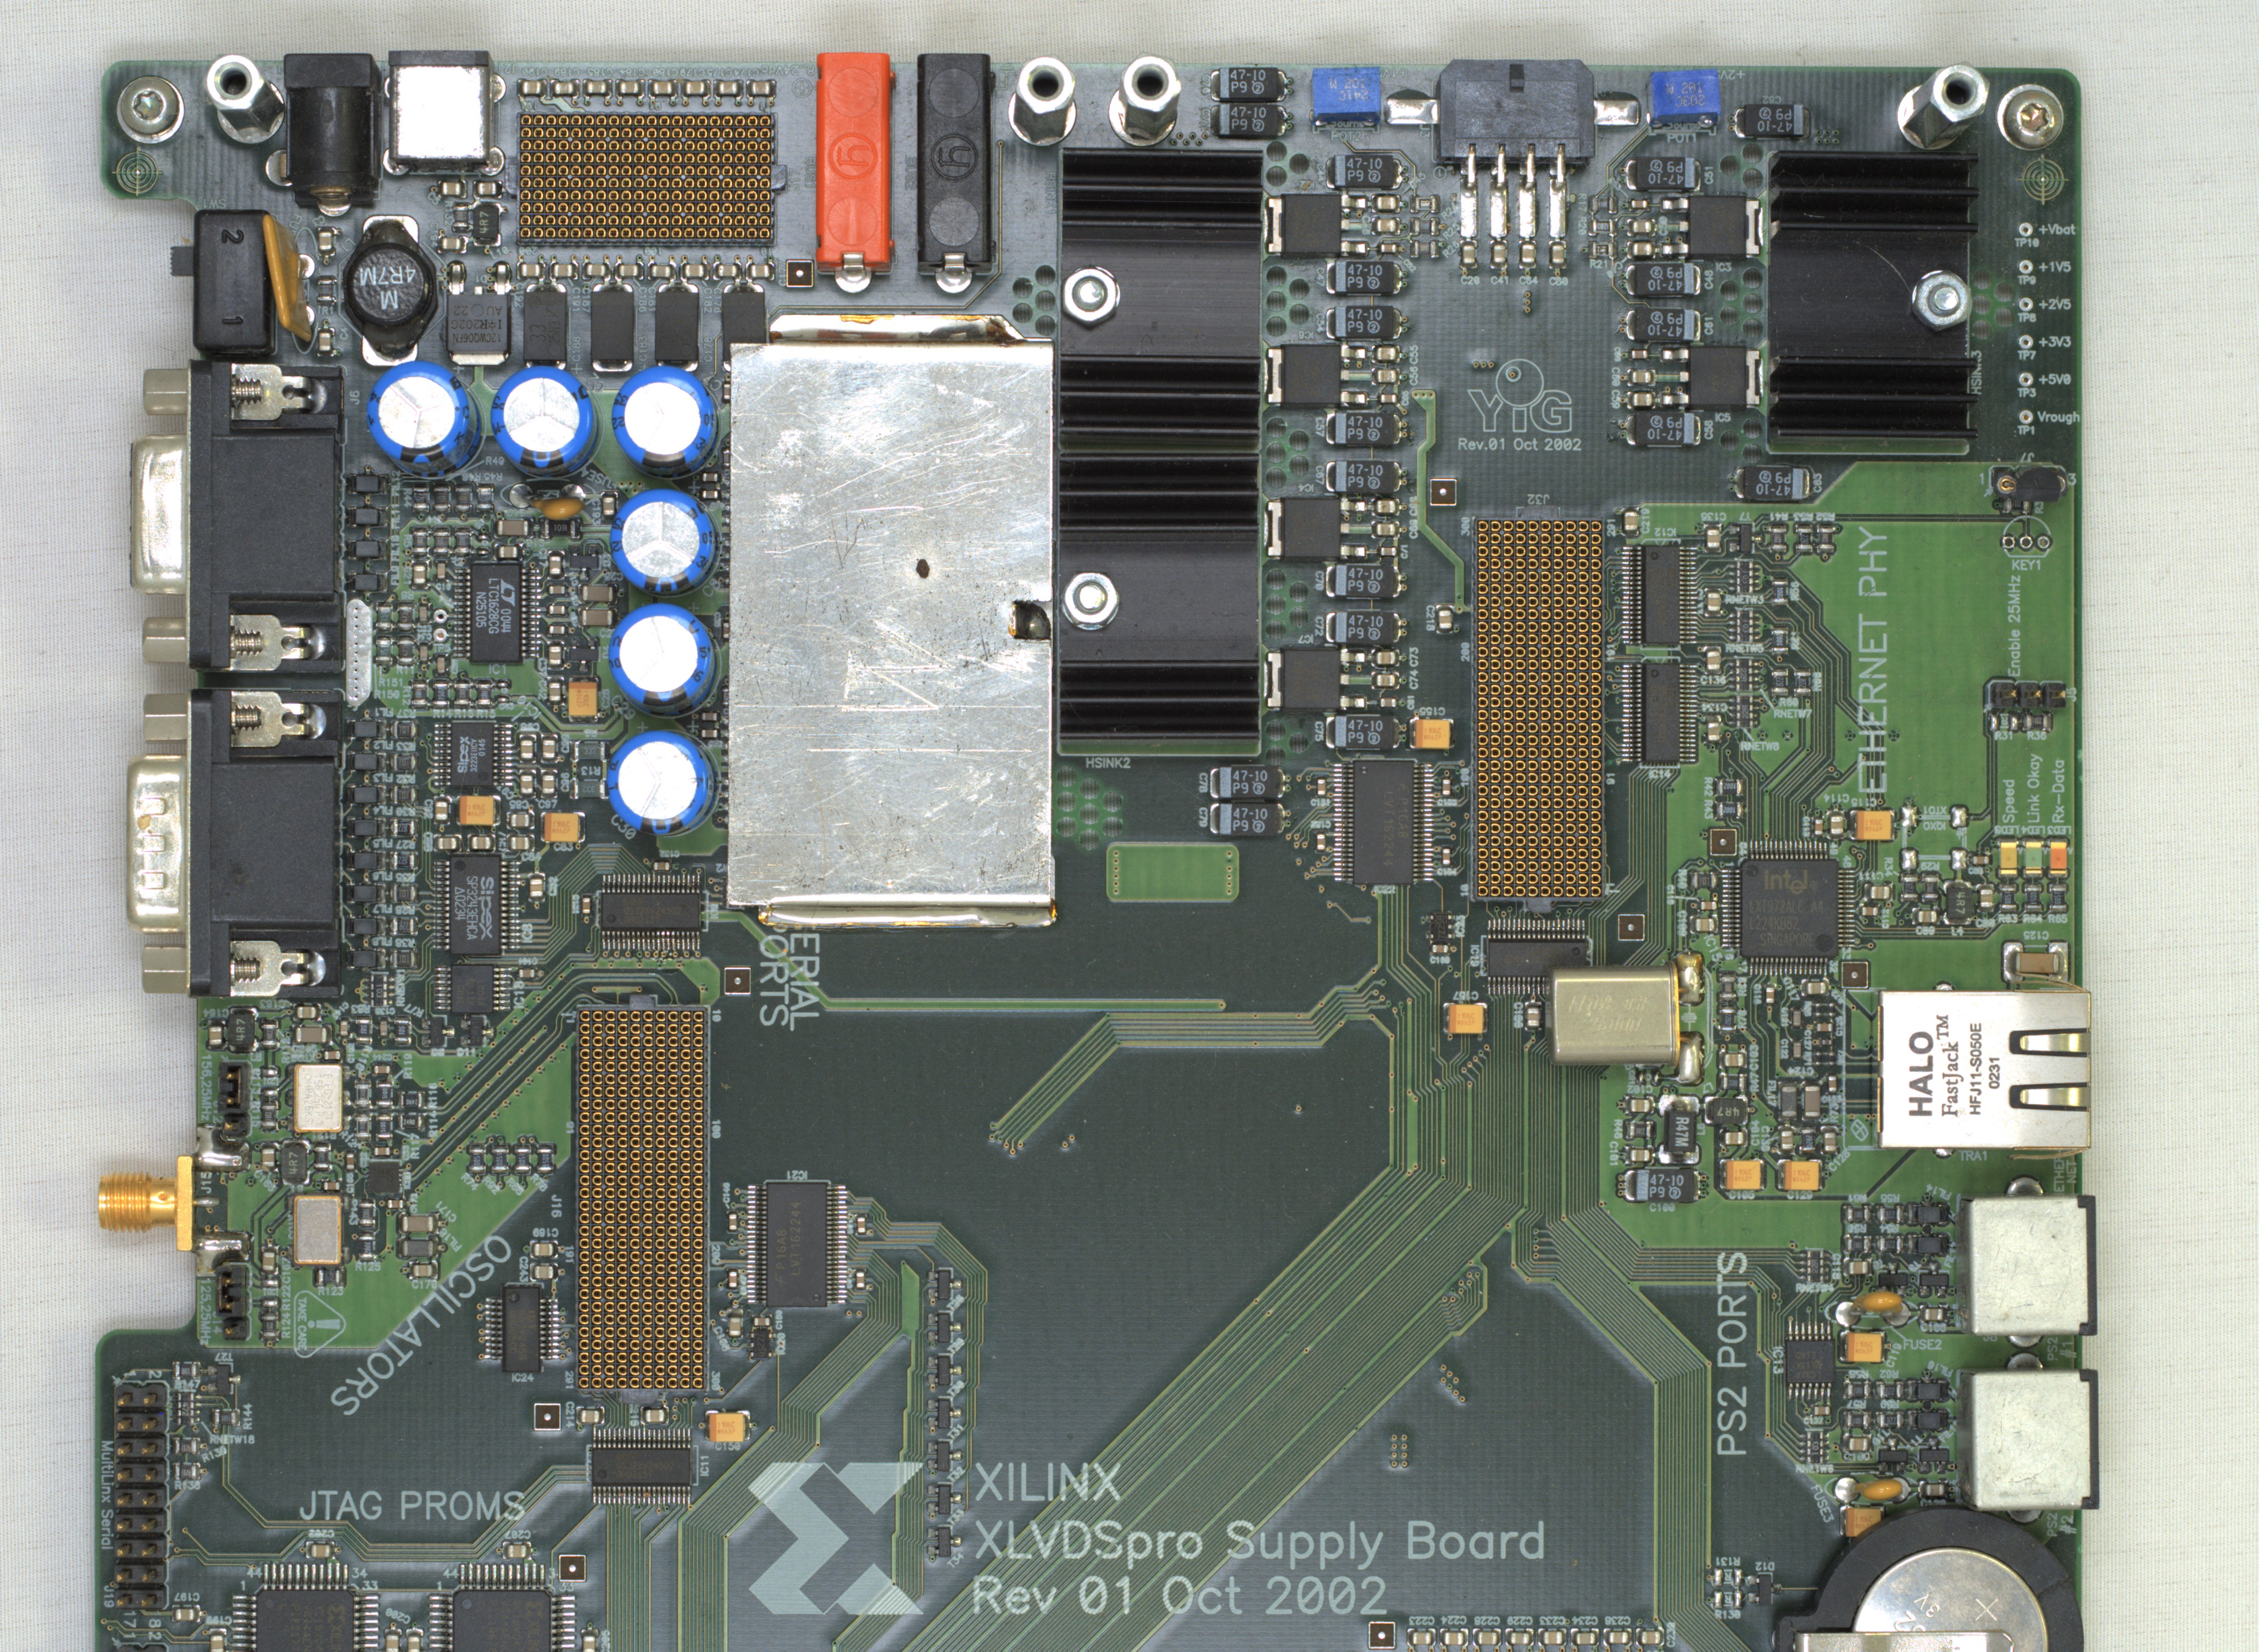capacitor C100: (1843, 1433, 1873, 1452)
capacitor C101: (1624, 1145, 1654, 1164)
capacitor C102: (1624, 1094, 1654, 1115), (321, 1049, 344, 1063)
capacitor C103: (1719, 1049, 1747, 1068)
capacitor C104: (1719, 1128, 1749, 1149), (516, 966, 538, 980)
capacitor C105: (321, 1178, 344, 1193)
capacitor C11: (547, 584, 568, 596)
capacitor C110: (1698, 900, 1719, 912)
capacitor C111: (1863, 882, 1894, 903)
capacitor C112: (1859, 903, 1880, 919)
capacitor C114: (1826, 810, 1845, 840)
capacitor C115: (1812, 815, 1826, 838)
capacitor C116: (1764, 984, 1777, 1007)
capacitor C117: (1799, 979, 1831, 996)
capacitor C118: (1843, 1257, 1871, 1277)
capacitor C12: (493, 517, 535, 538)
capacitor C121: (1791, 1007, 1803, 1029)
capacitor C122: (1791, 1038, 1803, 1061)
capacitor C123: (1824, 1073, 1838, 1094)
capacitor C124: (1801, 1080, 1822, 1121)
capacitor C125: (1999, 938, 2071, 986)
capacitor C126: (1819, 1126, 1838, 1154), (1814, 1021, 1835, 1033)
capacitor C127: (1819, 1038, 1833, 1045)
capacitor C13: (495, 542, 524, 561)
capacitor C130: (1777, 1126, 1796, 1156), (379, 1017, 389, 1040)
capacitor C132: (651, 859, 673, 873)
capacitor C133: (1705, 587, 1722, 617)
capacitor C134: (1703, 716, 1722, 744)
capacitor C135: (1703, 523, 1722, 554)
capacitor C136: (1703, 645, 1722, 675)
capacitor C137: (1810, 1405, 1831, 1417)
capacitor C145: (338, 1015, 353, 1040)
capacitor C146: (726, 1210, 738, 1235)
capacitor C151: (1315, 777, 1326, 796)
capacitor C152: (1314, 831, 1328, 854)
capacitor C153: (1440, 777, 1452, 796)
capacitor C154: (1440, 845, 1452, 866)
capacitor C159: (751, 1314, 772, 1329)
capacitor C16: (435, 559, 449, 582)
capacitor C160: (1428, 942, 1450, 954)
capacitor C163: (291, 1003, 323, 1021)
capacitor C164: (207, 1021, 226, 1050)
capacitor C166: (261, 1142, 279, 1171)
capacitor C167: (260, 1245, 279, 1277)
capacitor C168: (726, 1308, 744, 1338)
capacitor C169: (528, 1240, 559, 1259)
capacitor C17: (547, 549, 565, 579)
capacitor C170: (409, 1261, 438, 1280)
capacitor C171: (396, 1212, 440, 1235)
capacitor C172: (384, 1198, 405, 1210)
capacitor C174: (745, 79, 775, 98)
capacitor C175: (714, 79, 744, 98)
capacitor C176: (712, 261, 742, 281)
capacitor C1767: (745, 261, 775, 282)
capacitor C179: (681, 79, 710, 98)
capacitor C180: (647, 79, 677, 98)
capacitor C181: (647, 261, 677, 282)
capacitor C182: (681, 261, 710, 281)
capacitor C184: (616, 79, 644, 96)
capacitor C185: (582, 79, 612, 98)
capacitor C186: (616, 261, 644, 281)
capacitor C187: (582, 261, 612, 281)
capacitor C189: (549, 79, 579, 98)
capacitor C190: (517, 79, 547, 98)
capacitor C191: (549, 261, 579, 281)
capacitor C192: (516, 261, 545, 279)
capacitor C193: (602, 491, 617, 523)
capacitor C194: (438, 235, 467, 253)
capacitor C197: (170, 1603, 202, 1622)
capacitor C2: (577, 607, 617, 628)
capacitor C20: (1459, 240, 1477, 268)
capacitor C202: (305, 1540, 335, 1559)
capacitor C207: (502, 1542, 531, 1559)
capacitor C21: (410, 559, 430, 591)
capacitor C214: (575, 1406, 605, 1424)
capacitor C215: (640, 1406, 670, 1424)
capacitor C218: (1435, 603, 1454, 635)
capacitor C219: (1621, 507, 1640, 538)
capacitor C22: (344, 1149, 358, 1171)
capacitor C223: (1407, 1627, 1436, 1647)
capacitor C224: (1440, 1629, 1468, 1647)
capacitor C228: (1472, 1627, 1503, 1647)
capacitor C229: (1505, 1627, 1535, 1647)
capacitor C23: (417, 605, 431, 624)
capacitor C232: (1635, 1627, 1664, 1647)
capacitor C233: (1536, 1627, 1568, 1647)
capacitor C234: (1570, 1627, 1600, 1647)
capacitor C238: (1603, 1627, 1631, 1647)
capacitor C243: (530, 1263, 559, 1282)
capacitor C244: (372, 1065, 393, 1075)
capacitor C245: (291, 1024, 333, 1047)
capacitor C28: (577, 584, 617, 603)
capacitor C3: (317, 226, 337, 256)
capacitor C32: (1377, 244, 1400, 254)
capacitor C33: (372, 1145, 393, 1157)
capacitor C34: (417, 644, 430, 665)
capacitor C37: (547, 640, 567, 670)
capacitor C4: (316, 326, 335, 354)
capacitor C40: (1628, 240, 1656, 258)
capacitor C41: (1491, 240, 1508, 270)
capacitor C42: (547, 677, 565, 707)
capacitor C45: (1372, 195, 1400, 214)
capacitor C48: (1372, 217, 1401, 237)
capacitor C5: (437, 179, 468, 198)
capacitor C50: (1626, 219, 1654, 237)
capacitor C55: (1372, 345, 1401, 363)
capacitor C56: (1372, 368, 1400, 386)
capacitor C59: (1626, 391, 1656, 409), (1912, 907, 1940, 924)
capacitor C60: (1626, 368, 1656, 388)
capacitor C64: (1519, 240, 1536, 268)
capacitor C65: (1379, 393, 1398, 405)
capacitor C68: (1372, 498, 1401, 516)
capacitor C69: (1370, 521, 1400, 540)
capacitor C71: (1377, 544, 1398, 559)
capacitor C73: (1372, 649, 1400, 668)
capacitor C74: (1370, 672, 1401, 691)
capacitor C80: (1549, 240, 1566, 268)
capacitor C81: (1377, 696, 1400, 709)
capacitor C83: (1628, 347, 1650, 361)
capacitor C85: (505, 810, 535, 831)
capacitor C87: (467, 833, 496, 852)
capacitor C92: (433, 794, 451, 826)
capacitor C96: (540, 768, 558, 798)
capacitor C97: (519, 768, 537, 798)
capacitor C98: (519, 733, 537, 765)
capacitor C99: (540, 733, 558, 765)
capacitor unknown: (526, 872, 547, 903), (1524, 1001, 1543, 1033), (1689, 914, 1717, 935), (1919, 1480, 1949, 1499), (1919, 1305, 1950, 1322), (1975, 884, 1994, 912), (433, 835, 463, 852), (474, 181, 502, 198), (724, 1266, 740, 1292), (852, 1268, 868, 1292), (545, 603, 568, 619), (547, 623, 568, 638), (581, 893, 593, 919), (1628, 198, 1650, 212), (854, 1214, 868, 1235), (1968, 854, 1991, 866), (700, 489, 721, 502), (435, 654, 445, 677), (700, 472, 719, 484), (700, 730, 719, 740), (723, 381, 731, 402), (702, 712, 717, 721), (723, 621, 730, 640)
clock unknown: (1543, 951, 1714, 1086), (286, 1193, 351, 1266), (286, 1063, 351, 1131)
component text" "106C M062P: (552, 821, 572, 835), (467, 803, 486, 817)
component text" "106C M06ZP: (1791, 1168, 1812, 1184), (716, 1421, 737, 1436), (1735, 1166, 1754, 1182), (1422, 726, 1443, 740), (1457, 1012, 1475, 1026), (1864, 819, 1884, 831)
component text" "12CWQ06FN I R202G AU 22: (449, 302, 505, 345)
component text" "33 25N3: (526, 317, 561, 345)
component text" "47-10 P9 2: (1347, 566, 1384, 595), (1347, 717, 1384, 745), (1231, 768, 1268, 796), (1645, 160, 1684, 186), (1645, 267, 1684, 293), (1645, 312, 1684, 338), (1645, 416, 1684, 442), (1754, 470, 1792, 496), (1229, 68, 1266, 95), (1229, 105, 1266, 132), (1347, 414, 1384, 440), (1347, 463, 1384, 489), (1756, 107, 1792, 133), (1347, 614, 1384, 640), (1231, 807, 1268, 833), (1649, 1173, 1684, 1200), (1345, 158, 1382, 182), (1345, 265, 1382, 289), (1345, 309, 1382, 333)
component text" "E EG 2121 156 250 P OHPA26KS: (303, 1073, 333, 1124)
component text" "FP16AB LVT162244: (773, 1200, 805, 1289)
component text" "HALO FastJackTM HFJ11-S050E 0231: (1906, 1012, 2001, 1121)
component text" "LC32 13K E1K0: (1792, 1350, 1824, 1380)
component text" "LT 0044 LTC1628CG N25105: (474, 577, 516, 635)
component text" "M R47M: (358, 265, 417, 312)
component text" "P1GAB LVT162244: (1382, 789, 1410, 868)
component text" "Sipex 3223EIICY 0145: (456, 733, 488, 775)
component text" "Sipex SP3243EHCA 0234: (453, 873, 495, 942)
component text" "W 201: (1664, 81, 1707, 95), (1328, 77, 1368, 89)
component text" "intel LXT972ALC A4 L224KB82 SINGAPORE: (1749, 868, 1826, 949)
component text" 0X01: (1922, 821, 1947, 831)
component text" 1: (219, 312, 247, 330)
component text" 1001: (414, 687, 424, 700), (1852, 1415, 1863, 1426), (1852, 1240, 1863, 1249), (1854, 1385, 1863, 1396), (221, 1413, 232, 1422), (1854, 1210, 1863, 1219)
component text" 1002: (1722, 780, 1736, 791), (1722, 803, 1736, 814), (1775, 633, 1784, 647), (363, 1240, 372, 1254), (1777, 586, 1784, 600)
component text" 1003: (481, 689, 489, 700)
component text" 101: (1698, 875, 1710, 886), (437, 491, 447, 503), (398, 724, 410, 735), (398, 758, 410, 768), (396, 789, 409, 800), (398, 887, 409, 898), (398, 954, 409, 965), (460, 491, 467, 503)
component text" 1022: (361, 1208, 370, 1219)
component text" 103: (1810, 1440, 1821, 1456), (1742, 568, 1750, 586), (1742, 617, 1750, 635), (375, 982, 384, 1000)
component text" 105: (396, 1024, 405, 1036), (360, 1024, 368, 1036)
component text" 10R: (552, 523, 568, 533)
component text" 1200: (1596, 223, 1608, 231)
component text" 1500: (2003, 891, 2012, 905), (2029, 891, 2038, 905), (472, 1152, 481, 1166), (495, 1152, 503, 1166), (2054, 891, 2061, 905), (517, 1152, 524, 1166), (542, 1152, 549, 1166)
component text" 1503: (437, 686, 445, 701)
component text" 2: (217, 228, 246, 246)
component text" 203C: (1675, 95, 1708, 107)
component text" 2201: (1773, 533, 1782, 544), (265, 1321, 274, 1331), (2031, 717, 2042, 724), (265, 1112, 272, 1122), (2012, 500, 2020, 507)
component text" 2202: (1724, 1012, 1733, 1026)
component text" 22R: (396, 821, 409, 833), (1799, 533, 1810, 545), (1775, 675, 1785, 687), (1798, 677, 1808, 689), (1905, 882, 1915, 894), (414, 491, 424, 503), (396, 854, 409, 865), (1885, 1415, 1898, 1426), (323, 1271, 335, 1282), (1740, 666, 1747, 684), (1742, 703, 1749, 719), (1885, 1210, 1896, 1221), (1884, 1385, 1894, 1396), (398, 921, 409, 931), (1812, 1259, 1819, 1273), (1885, 1240, 1896, 1249)
component text" 24: (430, 1036, 440, 1045), (470, 1036, 481, 1043)
component text" 241C: (1338, 88, 1370, 102)
component text" 24R0: (402, 1117, 416, 1126), (405, 1098, 417, 1107)
component text" 2R20: (1805, 1135, 1814, 1149)
component text" 3100: (381, 1087, 389, 1100), (379, 1121, 386, 1133)
component text" 3300: (1926, 882, 1935, 894), (1821, 533, 1829, 544), (1728, 1079, 1738, 1087), (1635, 1126, 1645, 1135)
component text" 332: (581, 784, 596, 794), (582, 745, 598, 756)
component text" 4701: (181, 1442, 191, 1452), (181, 1468, 191, 1477)
component text" 472: (181, 1401, 189, 1417)
component text" 473: (402, 644, 410, 658), (400, 610, 409, 623)
component text" 4R7: (1954, 891, 1966, 915), (1715, 1105, 1740, 1117), (235, 1017, 246, 1043), (479, 209, 489, 233), (288, 1150, 298, 1175)
component text" 72258: (756, 1331, 766, 1357)
component text" 7Z25B: (1435, 914, 1447, 940)
component text" L4P: (470, 1021, 481, 1036)
component text" R47M: (1673, 1115, 1691, 1149)
component text" h: (835, 144, 870, 168), (937, 146, 972, 168)
connector "ps2 #1: (1954, 1173, 2098, 1350)
connector "ps2 #2: (1956, 1350, 2099, 1526)
connector BUS1: (816, 53, 894, 293)
connector BUS2: (914, 53, 1000, 295)
connector J12: (223, 1114, 251, 1138)
connector J14: (223, 1315, 253, 1342)
connector J15: (96, 1122, 251, 1277)
connector J17: (516, 112, 787, 247)
connector J19: (112, 1375, 170, 1610)
connector J2: (384, 49, 507, 177)
connector J3: (1386, 56, 1640, 237)
connector J32: (1473, 505, 1607, 915)
connector J5: (1985, 680, 2066, 709)
connector J6: (126, 360, 346, 673)
connector J7: (1989, 465, 2066, 502)
connector KEY1: (1999, 531, 2054, 552)
connector TRA1: (1845, 973, 2092, 1159)
connector unknown: (125, 686, 346, 1001), (577, 993, 707, 1406), (261, 51, 382, 217)
diode D11: (460, 1015, 496, 1047)
diode D12: (1747, 1573, 1784, 1606)
diode D8: (421, 1014, 456, 1047)
electrolytic capacitor" C100: (1624, 1170, 1700, 1203)
electrolytic capacitor" C105: (1719, 1157, 1764, 1191)
electrolytic capacitor" C115: (1849, 808, 1894, 844)
electrolytic capacitor" C119: (1836, 1331, 1885, 1364)
electrolytic capacitor" C129: (1777, 1159, 1822, 1191)
electrolytic capacitor" C150: (705, 1410, 751, 1442)
electrolytic capacitor" C155: (1408, 717, 1456, 751)
electrolytic capacitor" C157: (1442, 1001, 1489, 1035)
electrolytic capacitor" C178: (658, 284, 700, 372)
electrolytic capacitor" C183: (591, 281, 633, 372)
electrolytic capacitor" C188: (524, 284, 568, 370)
electrolytic capacitor" C2: (488, 365, 607, 481)
electrolytic capacitor" C28: (568, 677, 600, 723)
electrolytic capacitor" C29: (607, 603, 721, 719)
electrolytic capacitor" C30: (605, 730, 721, 837)
electrolytic capacitor" C44: (1328, 154, 1408, 189)
electrolytic capacitor" C47: (1326, 260, 1408, 295)
electrolytic capacitor" C48: (1626, 265, 1701, 295)
electrolytic capacitor" C51: (1621, 158, 1701, 193)
electrolytic capacitor" C54: (1328, 307, 1407, 340)
electrolytic capacitor" C57: (1326, 412, 1407, 444)
electrolytic capacitor" C58: (1619, 412, 1701, 449)
electrolytic capacitor" C61: (1621, 310, 1701, 342)
electrolytic capacitor" C62: (1728, 105, 1810, 140)
electrolytic capacitor" C67: (1326, 459, 1407, 493)
electrolytic capacitor" C7: (610, 365, 724, 481)
electrolytic capacitor" C70: (1326, 565, 1407, 598)
electrolytic capacitor" C72: (1326, 612, 1407, 644)
electrolytic capacitor" C75: (1326, 714, 1407, 751)
electrolytic capacitor" C76: (1212, 67, 1293, 102)
electrolytic capacitor" C77: (1210, 103, 1293, 137)
electrolytic capacitor" C78: (1210, 766, 1293, 801)
electrolytic capacitor" C79: (1210, 801, 1293, 837)
electrolytic capacitor" C8: (610, 488, 723, 598)
electrolytic capacitor" C83: (1735, 466, 1808, 502), (540, 812, 586, 842)
electrolytic capacitor" unknown: (363, 358, 488, 481), (724, 282, 766, 372), (456, 794, 502, 826), (1840, 1506, 1885, 1538)
emi filter" FIL1: (347, 719, 388, 738)
emi filter" FIL10: (347, 538, 388, 561)
emi filter" FIL11: (346, 505, 388, 528)
emi filter" FIL12: (347, 474, 388, 496)
emi filter" FIL13: (1906, 1233, 1949, 1257)
emi filter" FIL14: (1908, 1203, 1950, 1224)
emi filter" FIL16: (1905, 1377, 1949, 1403)
emi filter" FIL17: (1778, 1082, 1798, 1121)
emi filter" FIL18: (395, 1236, 440, 1259)
emi filter" FIL2: (347, 752, 386, 772)
emi filter" FIL3: (347, 784, 386, 805)
emi filter" FIL4: (347, 815, 386, 838)
emi filter" FIL5: (347, 851, 386, 872)
emi filter" FIL6: (346, 884, 386, 903)
emi filter" FIL7: (346, 915, 388, 936)
emi filter" FIL8: (346, 947, 388, 970)
emi filter" FIL9: (346, 572, 388, 595)
emi filter" unknown: (1906, 1408, 1949, 1429)
fuse FUSE2: (1824, 1291, 1919, 1329)
fuse FUSE3: (1824, 1471, 1919, 1505)
fuse FUSE4: (500, 479, 596, 521)
fuse unknown: (261, 216, 314, 349)
heatsink HSINK1: (1058, 146, 1261, 449)
heatsink HSINK2: (1054, 452, 1265, 756)
heatsink HSINK3: (1763, 149, 1975, 456)
ic IC1: (454, 559, 538, 665)
ic IC10: (433, 719, 512, 789)
ic IC11: (586, 1428, 698, 1506)
ic IC12: (1622, 538, 1696, 651)
ic IC13: (1785, 1321, 1835, 1399)
ic IC14: (1622, 656, 1696, 768)
ic IC15: (1722, 840, 1854, 977)
ic IC18: (433, 963, 510, 1012)
ic IC19: (1480, 919, 1593, 994)
ic IC2: (1268, 193, 1368, 256)
ic IC20: (747, 1329, 775, 1359)
ic IC21: (747, 1180, 847, 1308)
ic IC22: (1335, 758, 1435, 886)
ic IC23: (1424, 912, 1454, 942)
ic IC24: (484, 1282, 559, 1373)
ic IC3: (1659, 196, 1764, 260)
ic IC4: (1266, 496, 1368, 559)
ic IC5: (1657, 345, 1763, 410)
ic IC6: (1266, 342, 1368, 407)
ic IC7: (1265, 649, 1368, 712)
ic IC8: (433, 854, 521, 956)
ic IC9: (596, 873, 709, 951)
ic unknown: (368, 1157, 402, 1194)
inductor L1: (338, 214, 445, 367)
inductor L10: (472, 202, 503, 247)
inductor L4: (1943, 880, 1971, 926)
inductor L6: (1657, 1094, 1701, 1164)
inductor L7: (1705, 1094, 1749, 1124)
inductor L8: (228, 1007, 260, 1052)
inductor unknown: (281, 1140, 312, 1184)
jumper J12: (217, 1056, 251, 1114)
jumper J14: (214, 1263, 253, 1317)
led LED3: (2047, 837, 2068, 877)
led LED4: (2020, 837, 2043, 879)
led LED5: (1996, 838, 2019, 879)
pads C13: (495, 677, 510, 703)
pads R113: (260, 1066, 281, 1100)
pads R122: (260, 1277, 281, 1308)
pads R130: (1712, 1591, 1742, 1610)
pads R131: (1712, 1568, 1743, 1589)
pads R31: (1989, 712, 2019, 731)
pads unknown: (1899, 805, 1968, 870), (475, 531, 491, 559), (1636, 1070, 1659, 1086)
potentiometer POT1: (1645, 68, 1719, 137)
potentiometer POT2: (1310, 67, 1380, 133)
resistor IR1: (316, 275, 337, 303)
resistor R11: (396, 635, 414, 663)
resistor R112: (260, 1019, 279, 1050)
resistor R114: (396, 1112, 424, 1131)
resistor R115: (261, 1101, 279, 1133)
resistor R116: (398, 1091, 426, 1108)
resistor R117: (375, 1114, 393, 1142)
resistor R118: (354, 1080, 372, 1110)
resistor R119: (377, 1080, 393, 1110)
resistor R12: (410, 677, 428, 710), (1828, 1001, 1836, 1017)
resistor R120: (354, 1114, 372, 1140)
resistor R121: (312, 1142, 333, 1173)
resistor R123: (312, 1266, 347, 1285)
resistor R124: (258, 1310, 279, 1342)
resistor R125: (358, 1231, 377, 1261)
resistor R13: (570, 777, 610, 800), (475, 677, 493, 709)
resistor R130: (172, 1436, 200, 1456)
resistor R132: (453, 203, 470, 231)
resistor R138: (172, 1461, 202, 1478)
resistor R14: (431, 677, 451, 709)
resistor R143: (360, 1200, 375, 1229)
resistor R144: (210, 1406, 240, 1428)
resistor R147: (172, 1361, 202, 1378)
resistor R15: (453, 677, 472, 709)
resistor R150: (375, 600, 393, 633)
resistor R151: (375, 635, 393, 666)
resistor R17: (1589, 196, 1617, 214)
resistor R20: (1589, 219, 1617, 237)
resistor R21: (1589, 240, 1617, 260), (1771, 630, 1789, 656)
resistor R24: (1410, 195, 1440, 214)
resistor R25: (1410, 217, 1440, 235)
resistor R26: (1410, 240, 1438, 258)
resistor R27: (389, 852, 419, 870)
resistor R28: (389, 917, 419, 935)
resistor R29: (1922, 873, 1940, 901)
resistor R3: (2001, 498, 2031, 514)
resistor R30: (389, 819, 417, 837)
resistor R32: (389, 787, 419, 803)
resistor R33: (389, 886, 419, 903), (391, 754, 419, 772)
resistor R34: (1899, 873, 1917, 903)
resistor R36: (2020, 712, 2054, 731)
resistor R37: (389, 721, 421, 738)
resistor R38: (389, 951, 419, 968)
resistor R4: (433, 526, 451, 558)
resistor R40: (1689, 872, 1719, 891)
resistor R41: (1768, 523, 1787, 552)
resistor R42: (1717, 779, 1745, 796)
resistor R43: (1715, 801, 1745, 819)
resistor R44: (412, 482, 430, 514)
resistor R45: (475, 484, 495, 512)
resistor R46: (1624, 1119, 1656, 1140)
resistor R47: (1719, 1072, 1747, 1091)
resistor R48: (454, 482, 474, 514)
resistor R49: (433, 484, 453, 514)
resistor R5: (410, 526, 430, 556)
resistor R50: (1843, 1235, 1871, 1254)
resistor R51: (1843, 1205, 1871, 1222)
resistor R52: (1815, 523, 1836, 554)
resistor R53: (1794, 524, 1814, 554)
resistor R54: (1875, 1236, 1905, 1254)
resistor R55: (1877, 1205, 1905, 1222)
resistor R56: (1771, 577, 1789, 607)
resistor R57: (1843, 1412, 1871, 1431)
resistor R58: (1843, 1380, 1871, 1399)
resistor R59: (1875, 1412, 1905, 1429)
resistor R60: (1771, 668, 1789, 694)
resistor R62: (1875, 1380, 1905, 1399)
resistor R63: (1999, 884, 2017, 912)
resistor R64: (2024, 882, 2043, 912)
resistor R65: (2047, 884, 2070, 914)
resistor R68: (1794, 668, 1812, 696)
resistor R69: (1719, 973, 1738, 1003)
resistor R73: (1799, 1124, 1817, 1156)
resistor R74: (467, 1143, 486, 1175)
resistor R76: (1719, 1005, 1736, 1035)
resistor R77: (393, 1015, 412, 1047)
resistor R78: (535, 1143, 554, 1175)
resistor R8: (398, 603, 414, 631)
resistor R83: (356, 1015, 372, 1043)
resistor R88: (514, 1143, 531, 1175)
resistor R92: (491, 1143, 510, 1175)
resistor network" RESNETW1: (363, 973, 395, 1007)
resistor network" RNETW18: (170, 1392, 202, 1424)
resistor network" RNETW3: (1729, 559, 1759, 595)
resistor network" RNETW4: (1799, 1249, 1829, 1284)
resistor network" RNETW5: (1729, 609, 1759, 644)
resistor network" RNETW6: (1799, 1429, 1829, 1463)
resistor network" RNETW7: (1729, 658, 1759, 691)
resistor network" RNETW8: (1729, 694, 1757, 730)
resistor unknown: (540, 517, 582, 540), (570, 740, 609, 763), (454, 524, 474, 558), (721, 449, 730, 468), (1814, 1050, 1822, 1066), (1828, 1050, 1836, 1066), (1815, 1003, 1821, 1017)
switch SW1: (170, 207, 277, 354)
test point" TP1: (2019, 410, 2033, 424)
test point" TP10: (2017, 221, 2033, 237)
test point" TP3: (2017, 372, 2035, 386)
test point" TP4: (433, 609, 447, 624)
test point" TP5: (433, 628, 449, 644)
test point" TP7: (2017, 333, 2033, 349)
test point" TP8: (2017, 296, 2035, 312)
test point" TP9: (2017, 260, 2035, 274)
text !: (307, 1317, 342, 1331)
text "+1V5: (2038, 260, 2071, 274), (1379, 67, 1408, 79)
text "+2V5: (2038, 298, 2073, 310)
text "+3V3: (2036, 335, 2073, 349)
text "+5V0: (2036, 372, 2073, 386)
text "+Vbat: (2038, 223, 2077, 237)
text "125,25MHz: (198, 1277, 212, 1347)
text "156,25MHz: (198, 1052, 212, 1121)
text "2V5: (1714, 68, 1747, 81)
text "8..24Vdc: (759, 65, 816, 77)
text "ETHERNET PHY: (1856, 524, 1891, 796)
text "Enable 25MHz: (2006, 573, 2022, 679)
text "JTAG PROMS: (296, 1489, 528, 1522)
text "MultiLinx Serial: (100, 1440, 114, 1550)
text "PS2 #1: (2047, 1336, 2077, 1363)
text "PS2 #2: (2045, 1512, 2078, 1538)
text "PS2 PORTS: (1714, 1249, 1750, 1457)
text "Rev 01 Oct 2002: (970, 1573, 1389, 1619)
text "Rev.01 Oct 2002: (1457, 437, 1584, 454)
text "Rx-Data: (2050, 758, 2066, 822)
text "TAKE CARE: (296, 1296, 307, 1350)
text "XLVDSpro Supply Board: (970, 1513, 1556, 1571)
text +: (795, 81, 809, 95), (570, 363, 584, 377), (686, 481, 700, 495), (637, 482, 651, 495), (686, 721, 700, 733), (453, 363, 465, 375), (637, 721, 649, 733), (688, 602, 700, 614)
text 1: (121, 1631, 137, 1640), (123, 1370, 139, 1377), (435, 1580, 444, 1592), (1978, 472, 1985, 486), (758, 100, 765, 112), (565, 1017, 575, 1024), (240, 1578, 246, 1592), (1724, 861, 1735, 866), (1605, 882, 1615, 887)
text 10: (759, 246, 773, 258), (712, 1008, 723, 1022), (1459, 884, 1470, 896)
text 100: (710, 1119, 723, 1140), (642, 246, 663, 256), (1459, 766, 1470, 787)
text 101: (1607, 644, 1617, 661)
text 16: (1724, 947, 1735, 961)
text 17: (123, 1610, 137, 1629), (1738, 959, 1749, 973)
text 18: (147, 1610, 161, 1629)
text 191: (563, 1245, 575, 1264), (519, 100, 538, 110)
text 2: (146, 1629, 163, 1641), (146, 1370, 163, 1378)
text 200: (1459, 640, 1470, 663), (517, 246, 538, 256), (710, 1243, 721, 1264)
text 215: (628, 1406, 640, 1426)
text 291: (1605, 517, 1617, 538), (565, 1370, 575, 1389)
text 3: (310, 214, 326, 226), (2068, 472, 2077, 486), (547, 1566, 556, 1580)
text 300: (1461, 516, 1472, 538), (710, 1370, 721, 1392)
text 32: (1828, 959, 1838, 973)
text 33: (558, 1580, 575, 1592), (361, 1580, 379, 1591), (1842, 947, 1852, 959)
text 34: (351, 1566, 368, 1578)
text 44: (442, 1568, 460, 1580), (246, 1566, 263, 1578)
text 48: (1842, 854, 1852, 868)
text 49: (1828, 842, 1838, 856)
text 91: (647, 100, 661, 112), (1605, 772, 1617, 786), (567, 1121, 575, 1135)
text A: (2042, 847, 2049, 856), (2017, 847, 2024, 856), (2068, 847, 2073, 856)
text BUS1: (803, 154, 816, 189)
text BUS2: (905, 156, 916, 191)
text C100: (1649, 1201, 1675, 1214), (1843, 1450, 1871, 1461)
text C101: (1608, 1140, 1619, 1166)
text C102: (346, 1042, 356, 1065)
text C103: (1749, 1043, 1759, 1072)
text C104: (1750, 1119, 1761, 1147), (517, 956, 538, 966)
text C105: (1728, 1189, 1756, 1200), (344, 1171, 354, 1194)
text C11: (567, 572, 579, 586)
text C110: (1666, 884, 1675, 905)
text C111: (1857, 872, 1884, 880)
text C112: (1880, 908, 1891, 929)
text C114: (1822, 793, 1850, 803)
text C115: (1850, 796, 1877, 808), (1801, 815, 1812, 838)
text C116: (1752, 982, 1763, 1005)
text C117: (1782, 975, 1799, 1001)
text C118: (1831, 1252, 1842, 1280)
text C119: (1885, 1342, 1901, 1368)
text C12: (505, 507, 526, 517)
text C121: (1780, 1007, 1789, 1028)
text C122: (1780, 1038, 1789, 1059)
text C123: (1821, 1094, 1842, 1103)
text C124: (1787, 1066, 1815, 1077)
text C125: (2022, 929, 2050, 940)
text C126: (1828, 1149, 1852, 1171), (1835, 1014, 1843, 1038)
text C127: (1803, 1029, 1812, 1050)
text C129: (1785, 1189, 1814, 1201)
text C13: (524, 538, 545, 547), (498, 701, 514, 710)
text C130: (1761, 1126, 1771, 1152), (374, 1007, 396, 1017)
text C132: (658, 849, 681, 858)
text C134: (1701, 701, 1728, 712)
text C135: (1700, 512, 1728, 521)
text C136: (1700, 675, 1728, 686)
text C137: (1803, 1415, 1824, 1424)
text C145: (331, 1001, 349, 1021)
text C146: (723, 1182, 731, 1203)
text C150: (714, 1442, 742, 1450)
text C151: (1310, 798, 1331, 808)
text C152: (1308, 819, 1333, 830)
text C153: (1436, 798, 1459, 807)
text C154: (1436, 866, 1457, 877)
text C155: (1419, 707, 1445, 717)
text C157: (1452, 991, 1479, 1001)
text C159: (773, 1310, 784, 1329)
text C16: (435, 582, 451, 591)
text C160: (1428, 954, 1452, 966)
text C163: (260, 998, 286, 1008)
text C164: (202, 1007, 230, 1019)
text C166: (253, 1170, 277, 1193)
text C167: (281, 1256, 291, 1284)
text C168: (714, 1326, 731, 1352)
text C17: (538, 547, 549, 568)
text C170: (410, 1278, 438, 1289)
text C171: (435, 1200, 456, 1222)
text C172: (409, 1193, 417, 1214)
text C174: (733, 67, 759, 77)
text C175: (705, 67, 731, 77)
text C176: (712, 288, 723, 314)
text C177: (777, 260, 787, 288)
text C178: (703, 337, 714, 363)
text C179: (679, 67, 705, 77)
text C180: (651, 67, 679, 77)
text C181: (649, 286, 658, 312)
text C182: (703, 286, 712, 314)
text C183: (637, 335, 647, 361)
text C184: (617, 67, 645, 77)
text C185: (586, 67, 614, 77)
text C186: (637, 286, 647, 314)
text C187: (582, 286, 591, 314)
text C188: (572, 335, 581, 363)
text C189: (552, 67, 581, 77)
text C190: (521, 67, 549, 77)
text C191: (572, 286, 581, 314)
text C192: (514, 281, 524, 310), (1626, 1086, 1654, 1094)
text C193: (591, 498, 602, 526)
text C194: (428, 219, 438, 249)
text C197: (172, 1591, 200, 1603)
text C2: (586, 370, 605, 393), (598, 628, 612, 638)
text C20: (1459, 275, 1480, 286)
text C200: (384, 1606, 410, 1624)
text C202: (307, 1527, 335, 1540)
text C207: (503, 1529, 533, 1540)
text C21: (403, 565, 412, 587)
text C214: (565, 1401, 575, 1429)
text C218: (1426, 605, 1436, 631)
text C219: (1640, 507, 1650, 533)
text C22: (360, 1150, 368, 1168)
text C223: (1407, 1615, 1435, 1626)
text C224: (1440, 1615, 1468, 1626)
text C228: (1473, 1615, 1501, 1626)
text C229: (1507, 1615, 1535, 1627)
text C23: (416, 624, 433, 633)
text C232: (1664, 1620, 1677, 1647)
text C233: (1538, 1615, 1566, 1626)
text C234: (1571, 1615, 1598, 1626)
text C238: (1603, 1615, 1631, 1626)
text C243: (517, 1256, 530, 1282)
text C244: (372, 1052, 393, 1061)
text C245: (291, 1043, 317, 1054)
text C28: (603, 570, 624, 584), (600, 687, 610, 709)
text C29: (610, 694, 637, 721)
text C30: (610, 814, 637, 840)
text C32: (1401, 258, 1417, 274)
text C33: (402, 1143, 410, 1161)
text C34: (416, 633, 433, 642)
text C37: (537, 658, 547, 679)
text C4: (338, 324, 349, 342)
text C40: (1607, 261, 1624, 279)
text C41: (1489, 275, 1510, 286)
text C42: (537, 679, 549, 701)
text C44: (1315, 161, 1326, 184)
text C47: (1315, 267, 1326, 288)
text C48: (1703, 268, 1715, 291), (1361, 214, 1372, 237)
text C5: (426, 189, 442, 207)
text C50: (1657, 214, 1668, 237)
text C51: (1703, 165, 1715, 186)
text C54: (1315, 312, 1326, 333)
text C55: (1408, 345, 1419, 365)
text C56: (1408, 367, 1419, 386)
text C57: (1315, 416, 1326, 440)
text C58: (1703, 419, 1715, 440)
text C59: (1915, 924, 1936, 936), (1608, 389, 1621, 409)
text C60: (1610, 367, 1621, 388)
text C61: (1703, 316, 1715, 335)
text C62: (1761, 95, 1782, 105)
text C64: (1519, 275, 1538, 286)
text C65: (1400, 389, 1410, 407)
text C67: (1315, 465, 1324, 486)
text C68: (1408, 496, 1419, 517)
text C69: (1408, 519, 1419, 540)
text C7: (702, 374, 723, 393)
text C70: (1315, 570, 1324, 591)
text C71: (1398, 544, 1408, 559)
text C72: (1314, 616, 1324, 638)
text C73: (1407, 647, 1419, 666)
text C74: (1407, 668, 1419, 691)
text C75: (1314, 721, 1324, 742)
text C76: (1201, 72, 1210, 95)
text C77: (1200, 107, 1210, 130)
text C78: (1198, 772, 1208, 794)
text C79: (1198, 807, 1208, 828)
text C8: (702, 577, 723, 598)
text C80: (1547, 275, 1568, 288)
text C81: (1407, 694, 1415, 710)
text C83: (1812, 472, 1824, 493), (552, 842, 574, 852), (1614, 347, 1622, 363)
text C84: (521, 851, 542, 863)
text C85: (509, 800, 530, 810)
text C87: (496, 830, 507, 852)
text C92: (423, 798, 433, 821)
text C96: (559, 772, 570, 793)
text C97: (496, 784, 514, 800), (537, 800, 558, 808)
text C98: (519, 721, 540, 731)
text C99: (559, 733, 570, 754)
text D1: (474, 274, 488, 284)
text D11: (456, 1047, 477, 1057)
text D12: (1754, 1561, 1775, 1571)
text D45: (1407, 170, 1426, 191)
text D8: (430, 1047, 445, 1057)
text ERIAL: (789, 933, 821, 1031)
text ETHERNET: (2052, 1156, 2078, 1194)
text FIL1: (1936, 1424, 1956, 1443), (374, 707, 395, 719)
text FIL10: (389, 533, 402, 565)
text FIL11: (389, 502, 402, 531)
text FIL12: (389, 468, 400, 498)
text FIL13: (1943, 1240, 1957, 1268)
text FIL14: (1926, 1184, 1952, 1201)
text FIL16: (1928, 1361, 1954, 1378)
text FIL17: (1766, 1079, 1777, 1107)
text FIL18: (438, 1228, 461, 1252)
text FIL2: (372, 740, 395, 751)
text FIL3: (372, 772, 393, 784)
text FIL4: (372, 805, 393, 815)
text FIL5: (372, 838, 395, 849)
text FIL6: (372, 870, 393, 882)
text FIL7: (372, 903, 393, 914)
text FIL8: (372, 936, 393, 947)
text FIL9: (388, 565, 400, 586)
text FU: (288, 212, 303, 230)
text FUSE2: (1903, 1338, 1943, 1350)
text FUSE3: (1810, 1484, 1835, 1524)
text FUSE4: (579, 466, 619, 491)
text HSINK1: (1045, 168, 1058, 216)
text HSINK2: (1084, 756, 1131, 770)
text HSINK3: (1970, 349, 1984, 396)
text IC1: (488, 663, 507, 675)
text IC10: (516, 694, 542, 721)
text IC11: (700, 1454, 710, 1478)
text IC12: (1654, 526, 1677, 537)
text IC13: (1771, 1345, 1784, 1375)
text IC14: (1647, 770, 1671, 779)
text IC15: (1703, 933, 1722, 963)
text IC18: (512, 980, 524, 1010)
text IC19: (1470, 943, 1480, 966)
text IC2: (1298, 179, 1315, 189)
text IC20: (775, 1331, 787, 1356)
text IC21: (786, 1170, 809, 1180)
text IC22: (1372, 884, 1398, 894)
text IC23: (1454, 914, 1466, 938)
text IC24: (510, 1373, 535, 1384)
text IC3: (1715, 261, 1733, 272)
text IC4: (1298, 484, 1315, 495)
text IC5: (1714, 412, 1733, 423)
text IC6: (1298, 330, 1315, 340)
text IC7: (1298, 635, 1315, 644)
text IC8: (521, 921, 533, 943)
text IC9: (709, 903, 721, 921)
text IR1: (317, 303, 333, 316)
text J12: (212, 1100, 223, 1124)
text J14: (212, 1310, 223, 1335)
text J15: (200, 1171, 214, 1194)
text J16: (551, 1194, 563, 1219)
text J17: (787, 167, 802, 191)
text J19: (102, 1584, 114, 1610)
text J2: (503, 61, 519, 75)
text J3: (1417, 123, 1431, 139)
text J32: (1526, 493, 1549, 505)
text J5: (2066, 686, 2078, 703)
text J6: (347, 389, 361, 407)
text J7: (2019, 451, 2036, 465)
text KEY1: (2010, 558, 2042, 572)
text L1: (340, 237, 356, 253)
text L10: (488, 244, 510, 260)
text L4: (1950, 924, 1964, 936)
text L6: (1696, 1122, 1707, 1136)
text L7: (1701, 1080, 1715, 1094)
text L8: (249, 1052, 263, 1061)
text LED3: (2047, 824, 2073, 835)
text LED4: (2020, 824, 2047, 835)
text LED5: (1992, 824, 2020, 835)
text Link Okay: (2026, 752, 2045, 824)
text ORTS: (758, 935, 789, 1028)
text POT1: (1666, 132, 1698, 144)
text POT2: (1328, 130, 1361, 144)
text Q3: (602, 552, 612, 568)
text Q4: (602, 645, 610, 658)
text R: (1999, 716, 2008, 726), (1724, 1571, 1733, 1582), (1724, 1594, 1733, 1603), (267, 1287, 275, 1296), (267, 1077, 275, 1086)
text R11: (396, 665, 416, 675)
text R112: (281, 1038, 291, 1065)
text R113: (251, 1068, 261, 1094)
text R114: (428, 1110, 438, 1138)
text R115: (251, 1101, 261, 1129)
text R116: (428, 1082, 438, 1110)
text R117: (410, 1133, 419, 1159)
text R118: (356, 1045, 374, 1073)
text R119: (403, 1052, 414, 1080)
text R12: (402, 686, 412, 707), (1831, 989, 1845, 1005)
text R120: (338, 1129, 361, 1150)
text R121: (312, 1131, 337, 1140)
text R122: (281, 1284, 291, 1312)
text R123: (317, 1285, 344, 1296)
text R124: (281, 1312, 291, 1340)
text R125: (354, 1261, 382, 1271)
text R13: (579, 763, 602, 777), (475, 709, 496, 719)
text R130: (200, 1445, 226, 1463), (1714, 1610, 1742, 1620)
text R131: (1714, 1556, 1742, 1566)
text R132: (442, 200, 454, 228)
text R138: (172, 1480, 202, 1491)
text R14: (431, 709, 453, 719)
text R143: (347, 1196, 360, 1226)
text R144: (242, 1403, 253, 1429)
text R147: (174, 1378, 202, 1389)
text R15: (454, 709, 474, 719)
text R150: (374, 689, 400, 700)
text R151: (379, 677, 403, 687)
text R159: (531, 1226, 559, 1238)
text R17: (1577, 191, 1589, 214)
text R20: (1577, 216, 1587, 237)
text R21: (1789, 630, 1801, 651), (1589, 258, 1608, 270)
text R24: (1440, 203, 1459, 221)
text R25: (1440, 221, 1461, 240)
text R26: (1440, 240, 1461, 258)
text R27: (395, 840, 414, 849)
text R28: (395, 905, 416, 915)
text R29: (1921, 861, 1940, 870)
text R3: (2035, 500, 2045, 514)
text R30: (395, 807, 416, 817)
text R31: (1992, 731, 2013, 740)
text R32: (395, 773, 416, 786)
text R33: (396, 740, 417, 752), (395, 872, 416, 882)
text R34: (1884, 856, 1894, 877)
text R36: (2026, 731, 2047, 740)
text R37: (396, 709, 416, 719)
text R38: (395, 938, 416, 949)
text R40: (1677, 868, 1689, 891)
text R41: (1768, 512, 1789, 523)
text R42: (1703, 777, 1714, 796)
text R43: (1703, 800, 1714, 819)
text R44: (402, 486, 414, 509)
text R45: (482, 472, 503, 482)
text R46: (1614, 1119, 1624, 1140)
text R47: (1749, 1072, 1759, 1093)
text R48: (461, 472, 482, 482)
text R49: (484, 456, 505, 466)
text R5: (403, 533, 414, 549)
text R50: (1847, 1222, 1868, 1235)
text R51: (1847, 1194, 1868, 1203)
text R52: (1815, 510, 1836, 523)
text R53: (1792, 510, 1814, 523)
text R54: (1878, 1222, 1899, 1235)
text R55: (1880, 1193, 1901, 1203)
text R56: (1789, 580, 1801, 602)
text R57: (1845, 1399, 1868, 1410)
text R58: (1849, 1370, 1870, 1380)
text R59: (1880, 1399, 1899, 1410)
text R62: (1878, 1370, 1899, 1378)
text R63: (1998, 912, 2019, 924)
text R64: (2022, 914, 2043, 924)
text R65: (2047, 912, 2068, 924)
text R68: (1812, 672, 1824, 693)
text R69: (1736, 975, 1747, 998)
text R73: (1829, 1103, 1840, 1122)
text R74: (460, 1173, 479, 1191)
text R76: (1736, 1008, 1747, 1029)
text R77: (403, 1003, 424, 1019)
text R78: (530, 1173, 547, 1193)
text R8: (400, 589, 414, 600)
text R83: (351, 1003, 370, 1014)
text R88: (505, 1177, 524, 1196)
text R92: (481, 1175, 500, 1196)
text RNETW1: (395, 968, 405, 1008)
text RNETW3: (1724, 595, 1764, 603)
text RNETW4: (1794, 1282, 1835, 1294)
text RNETW6: (1796, 1464, 1835, 1475)
text RNETW7: (1773, 709, 1814, 719)
text RNETW8: (1740, 740, 1780, 751)
text RNEYW18: (209, 1435, 256, 1445)
text SW1: (200, 196, 226, 210)
text Speed: (1999, 777, 2019, 822)
text T10: (1871, 1429, 1891, 1447)
text T11: (1906, 1435, 1924, 1452)
text T27: (214, 1350, 233, 1363)
text T28: (945, 1294, 965, 1312)
text T29: (945, 1338, 965, 1354)
text T30: (945, 1380, 965, 1398)
text T31: (945, 1422, 965, 1440)
text T32: (947, 1466, 965, 1484)
text T33: (945, 1508, 965, 1526)
text T34: (945, 1552, 965, 1568)
text T7: (1738, 510, 1752, 523)
text TP1: (2017, 424, 2036, 437)
text TP10: (2013, 237, 2040, 249)
text TP3: (2017, 386, 2038, 398)
text TP4: (435, 593, 456, 610)
text TP5: (433, 642, 451, 654)
text TP7: (2015, 349, 2036, 360)
text TP8: (2017, 312, 2036, 323)
text TP9: (2017, 275, 2036, 286)
text TRA1: (1957, 1149, 1989, 1161)
text Vrough: (2036, 410, 2082, 424)
text XILINX: (973, 1457, 1124, 1505)
text XT01: (1922, 805, 1947, 815)
text YIG: (1466, 386, 1575, 435)
transistor Q1: (445, 261, 510, 367)
transistor Q3: (568, 545, 602, 582)
transistor Q4: (568, 635, 600, 673)
transistor T10: (1877, 1438, 1908, 1473)
transistor T11: (1919, 1436, 1950, 1475)
transistor T27: (207, 1363, 242, 1394)
transistor T28: (928, 1266, 963, 1300)
transistor T29: (928, 1310, 963, 1343)
transistor T30: (926, 1352, 963, 1385)
transistor T31: (928, 1396, 963, 1429)
transistor T32: (926, 1438, 963, 1471)
transistor T33: (926, 1482, 961, 1515)
transistor T34: (926, 1524, 961, 1557)
transistor T7: (1729, 521, 1763, 554)
transistor unknown: (1919, 1261, 1949, 1298), (1878, 1261, 1908, 1294)
